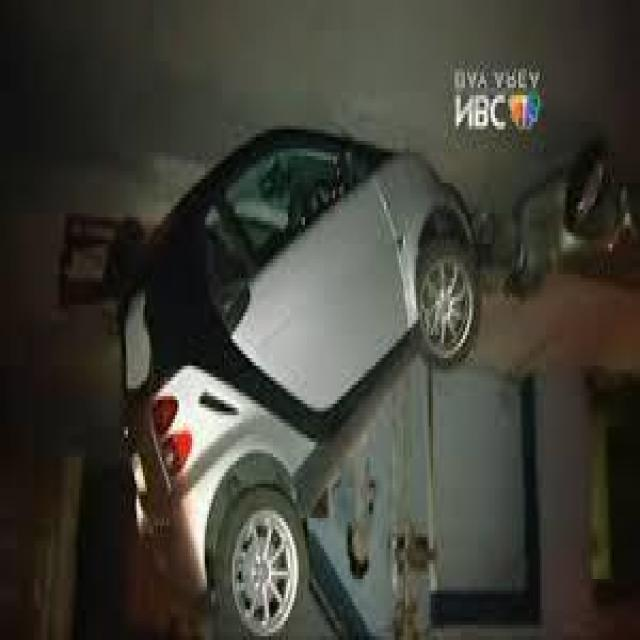severe: (117, 118, 486, 640)
